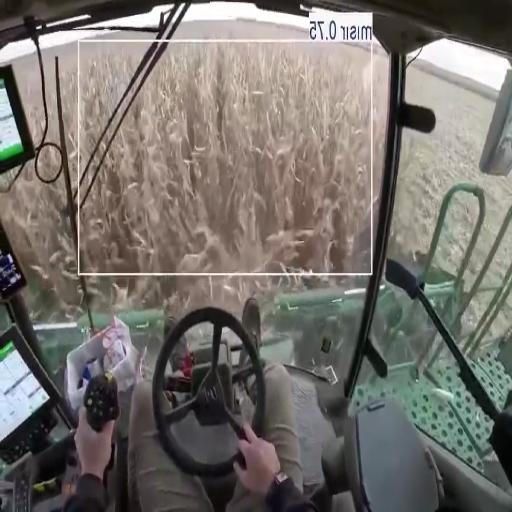misir: (82, 43, 387, 270), (80, 44, 146, 159), (1, 182, 71, 271)
